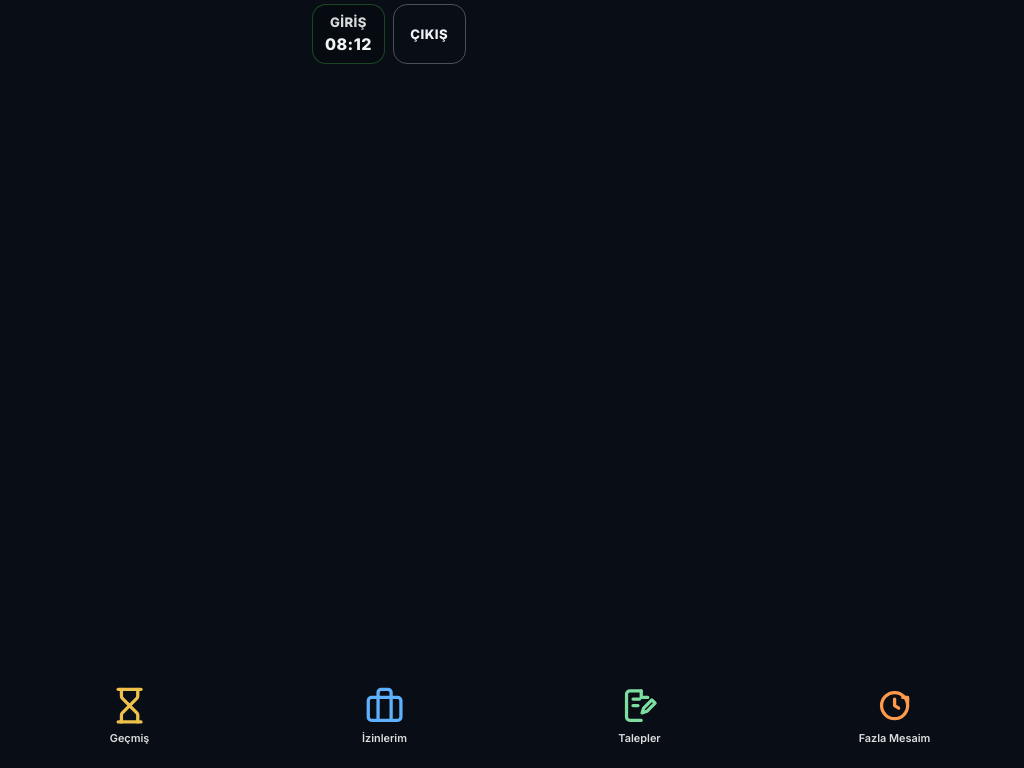
Scenario: PERSONEL collar → QR UI entitlement (render level) › open-shift day shows recorded giriş and enabled çıkış CTA without helper copy
Click the button with test id "giris-scan": (348, 34) [313,5,384,63]
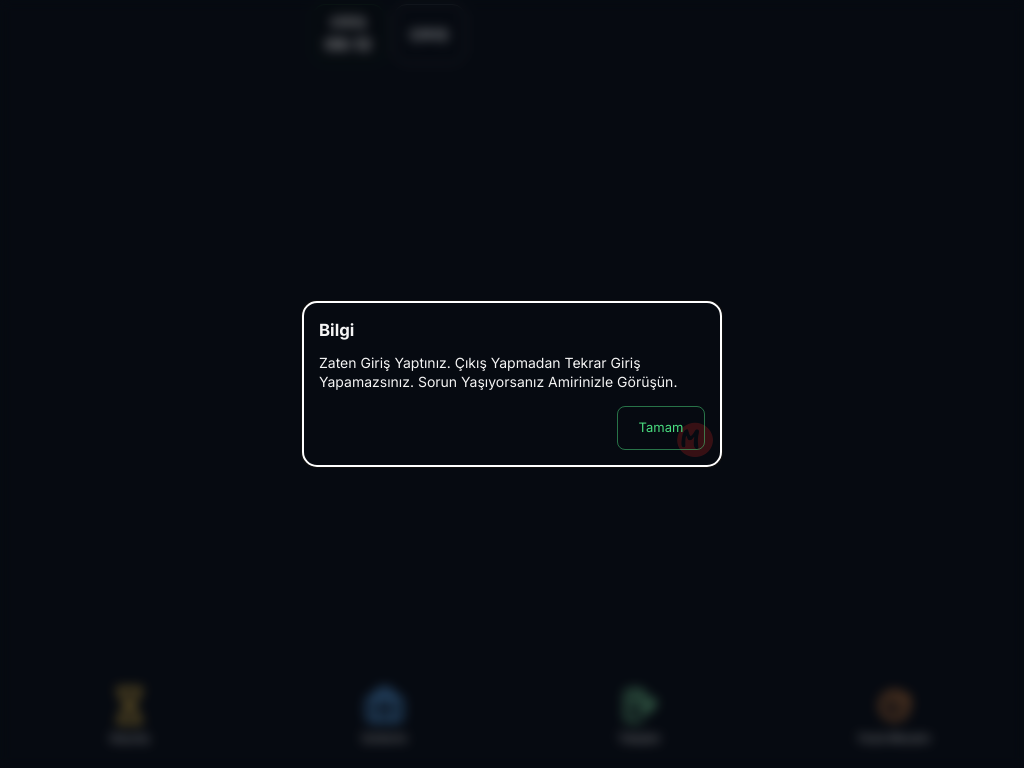
Expected: the dialog with test id "personel-notice-modal" is shown, [302,301,722,467]
Expected: the text "Zaten Giriş Yaptınız. Çıkış Yapmadan Tekrar Giriş Yapamazsınız. Sorun Yaşıyorsanız Amirinizle Görüşün." is shown, [319,354,677,390]
